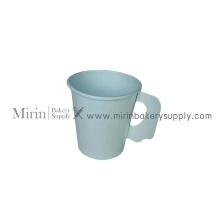paper_cup: (61, 64, 164, 165)
